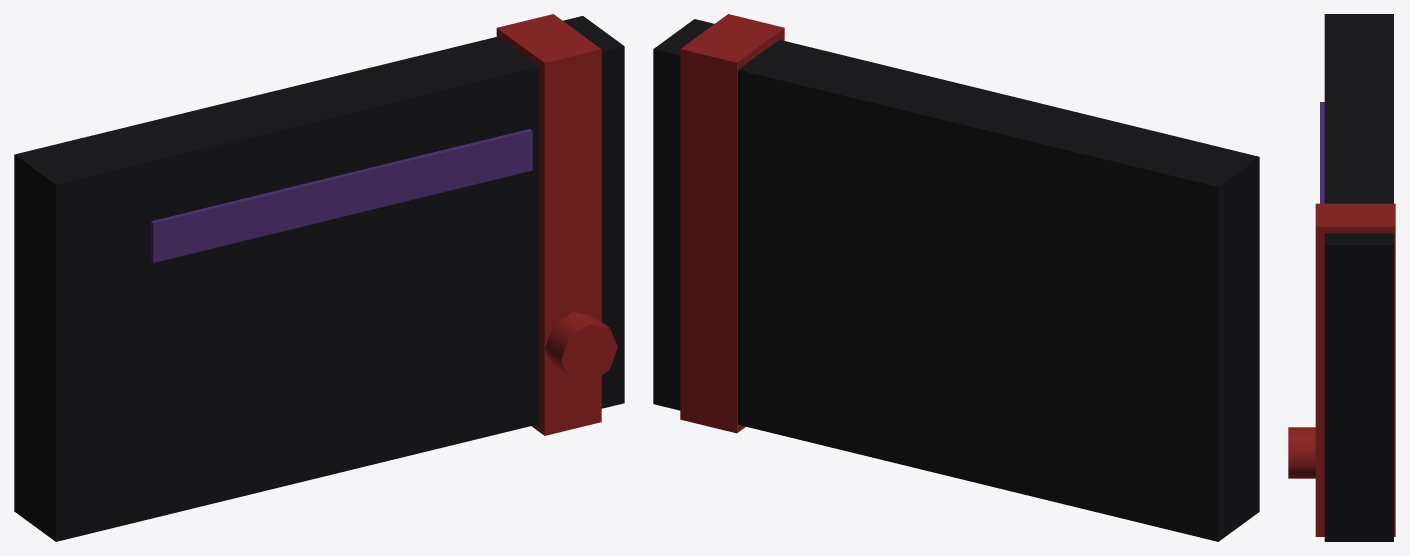
The model's file is t1_coder.obj.
The picture shows the model from 3 angles, left to right: view 1: azimuth 30°, elevation 25°; view 2: azimuth 150°, elevation 25°; view 3: azimuth 270°, elevation 25°; orthographic projection. The views are drawn at different scales.
Parts seen in each view (by area): view 1: t1_coder; view 2: t1_coder; view 3: t1_coder.
Part boxes in pixels (x1=…): t1_coder: x1=14, y1=14, x2=624, y2=541; t1_coder: x1=653, y1=14, x2=1259, y2=541; t1_coder: x1=1288, y1=14, x2=1395, y2=541.
Size of the model in its own units: 0.3 by 0.188 by 0.059.
